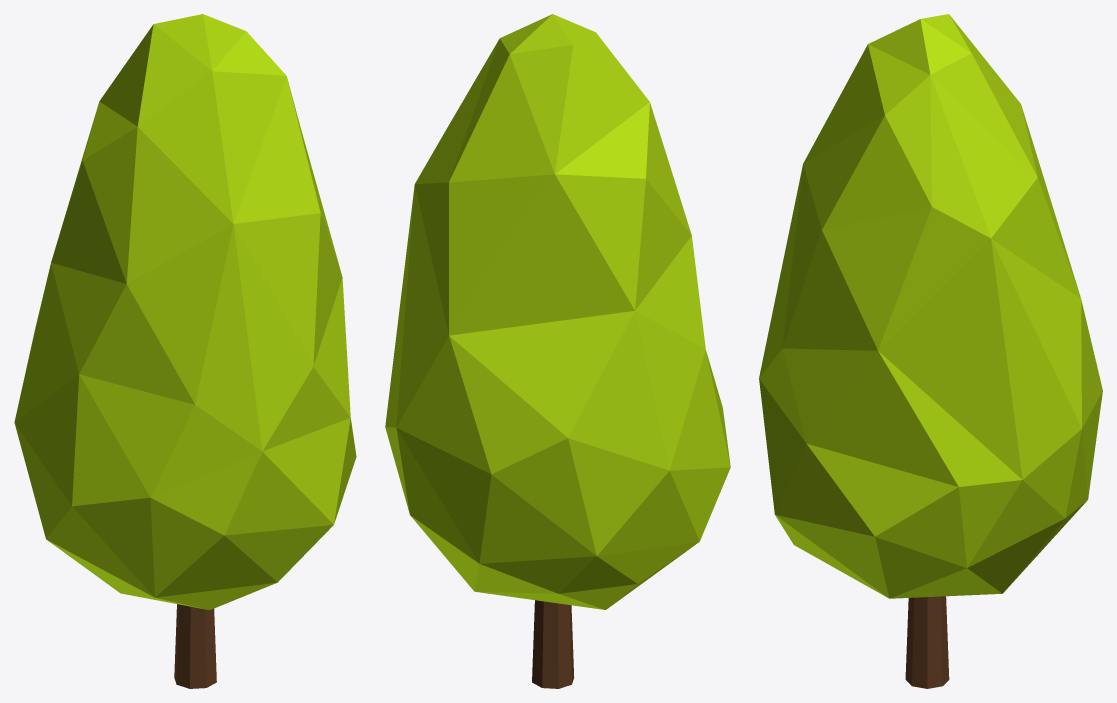
Rendered from SmallTreeD.fbx.
3 views of the same model, side by side, from view 1: azimuth 30°, elevation 25°; view 2: azimuth 150°, elevation 25°; view 3: azimuth 270°, elevation 25° (orthographic).
Parts seen in each view (by area): view 1: SmallTreeD_geo; view 2: SmallTreeD_geo; view 3: SmallTreeD_geo.
Part boxes in pixels (x1,y1,x2,y2): SmallTreeD_geo: [14, 14, 356, 688]; SmallTreeD_geo: [385, 14, 730, 688]; SmallTreeD_geo: [759, 14, 1102, 688].
Size of the model in its own units: 137 by 299 by 141.
